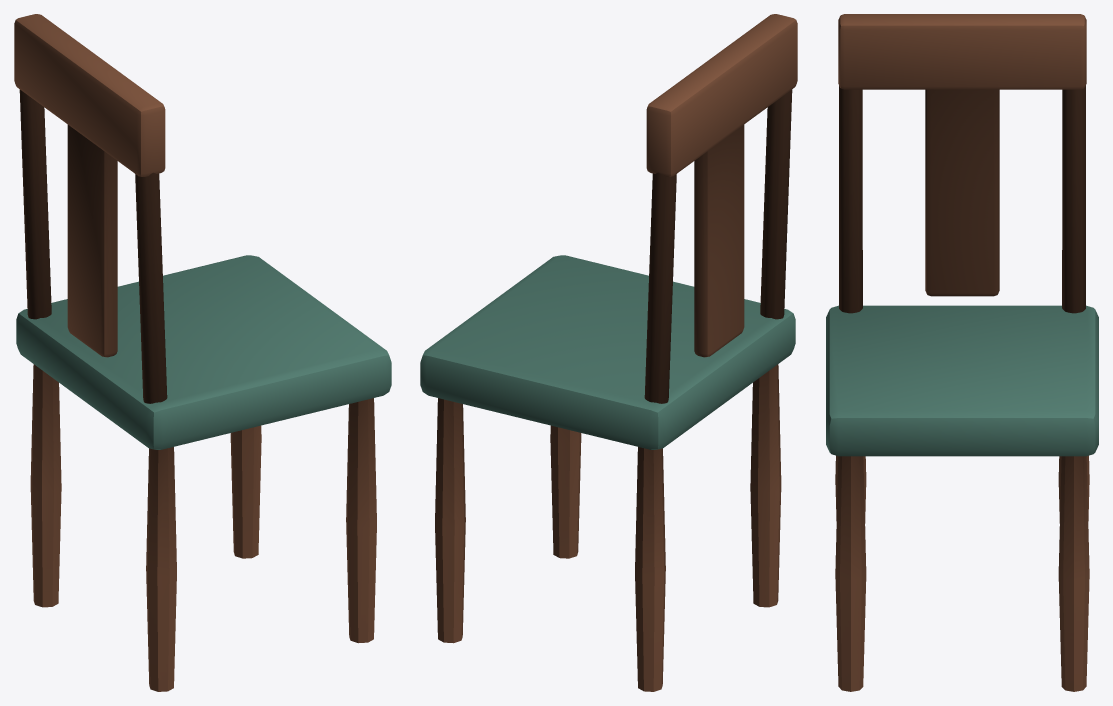
Rendered from chair.glb.
3 renders of one model, left to right at view 1: azimuth 30°, elevation 25°; view 2: azimuth 150°, elevation 25°; view 3: azimuth 270°, elevation 25°, orthographic. The views are drawn at different scales.
Visible parts, largest first — view 1: boat_mahog, boat_velvet2; view 2: boat_mahog, boat_velvet2; view 3: boat_mahog, boat_velvet2.
Part boxes in pixels (x1,y1,x2,y2): boat_mahog: (14,14,376,691); boat_velvet2: (16,255,391,449); boat_mahog: (435,14,797,691); boat_velvet2: (420,255,795,449); boat_mahog: (835,14,1089,691); boat_velvet2: (826,305,1098,456).
Size of the model in its own units: 0.45 by 1.01 by 0.44.
